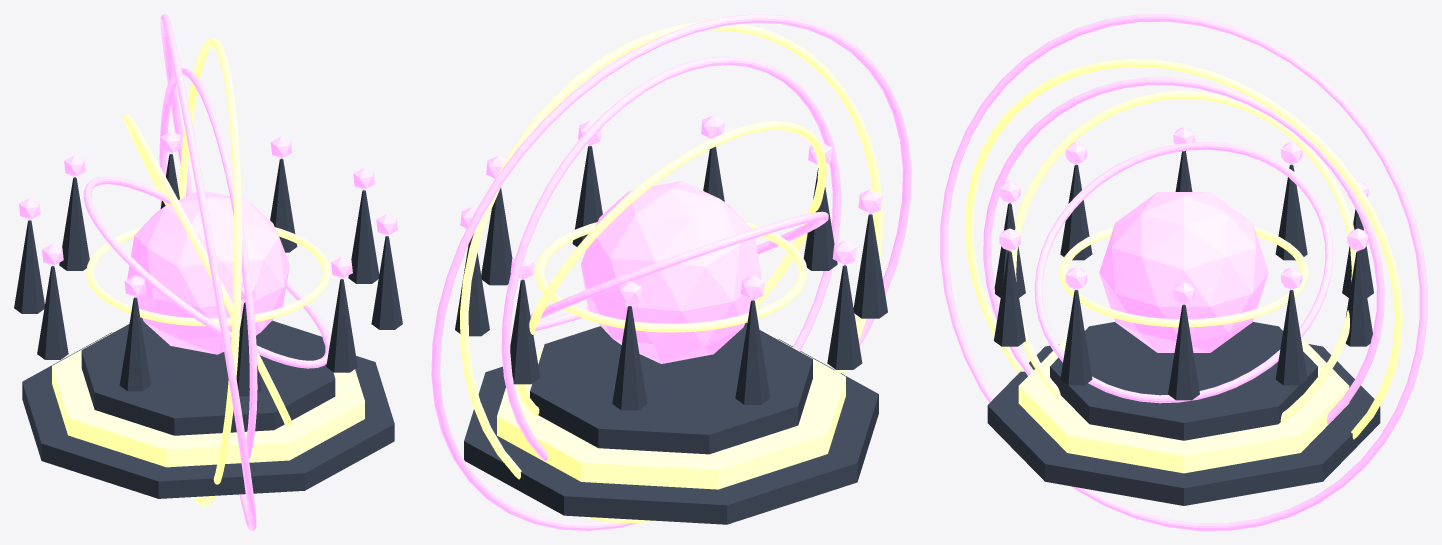
File: gpu-blender-v30.glb
3 renders of one model, left to right at view 1: azimuth 30°, elevation 25°; view 2: azimuth 150°, elevation 25°; view 3: azimuth 270°, elevation 25°, orthographic. The views are drawn at different scales.
Parts seen in each view (by area): view 1: Cylinder.002, Cylinder, SovereignCore_zoth-civilization, Cylinder.001, Torus.005, Torus.004, Torus.001, Torus.003, Torus, Torus.002, Cone.006, Cone.008 (+7 smaller); view 2: Cylinder.002, SovereignCore_zoth-civilization, Cylinder, Cylinder.001, Torus.005, Torus.003, Torus.004, Torus.002, Torus, Torus.001, Cone.003, Cone.004 (+8 smaller); view 3: SovereignCore_zoth-civilization, Cylinder.002, Cylinder, Cylinder.001, Torus.005, Torus.004, Torus.003, Torus.001, Torus.002, Torus, Cone, Cone.001 (+7 smaller).
Boxes of the visible parts, x1,y1,x2,y2 form: Cylinder.002: (81,317,335,435); Cylinder: (22,332,394,498); SovereignCore_zoth-civilization: (127,191,289,354); Cylinder.001: (52,324,364,467); Torus.005: (160,14,256,530); Torus.004: (178,38,241,506); Torus.001: (83,176,330,368); Torus.003: (159,68,257,458); Torus: (86,227,330,326); Torus.002: (123,114,292,425); Cone.006: (119,297,150,391); Cone.008: (326,279,357,372); Cylinder.002: (530,322,812,454); SovereignCore_zoth-civilization: (581,181,761,363); Cylinder: (464,339,878,524); Cylinder.001: (497,330,845,489); Torus.005: (431,14,911,530); Torus.003: (501,56,841,461); Torus.004: (460,22,882,523); Torus.002: (517,121,826,415); Torus: (535,222,807,332); Torus.001: (530,211,828,330); Cone.003: (612,306,647,410); Cone.004: (735,300,770,404); SovereignCore_zoth-civilization: (1099,192,1268,352); Cylinder.002: (1050,322,1317,440); Cylinder: (987,344,1380,505); Cylinder.001: (1018,336,1349,473); Torus.005: (940,14,1427,530); Torus.004: (965,59,1402,439); Torus.003: (983,77,1384,423); Torus.001: (1034,141,1333,403); Torus.002: (1010,90,1357,423); Torus: (1059,227,1308,327); Cone: (1168,304,1199,400); Cone.001: (1275,290,1307,385).
Size of the model in its own units: 4.41 by 5.93 by 5.46.
